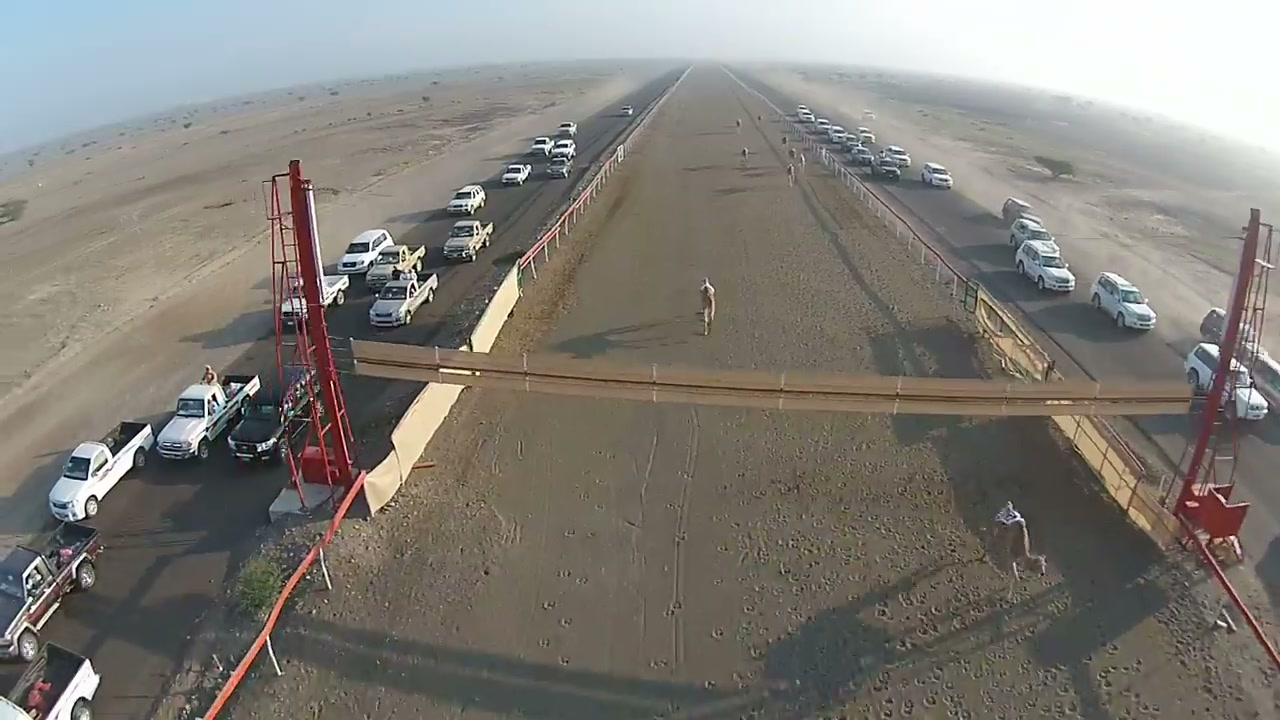animal_foot_print: (749, 466, 1166, 708), (535, 429, 617, 684)
